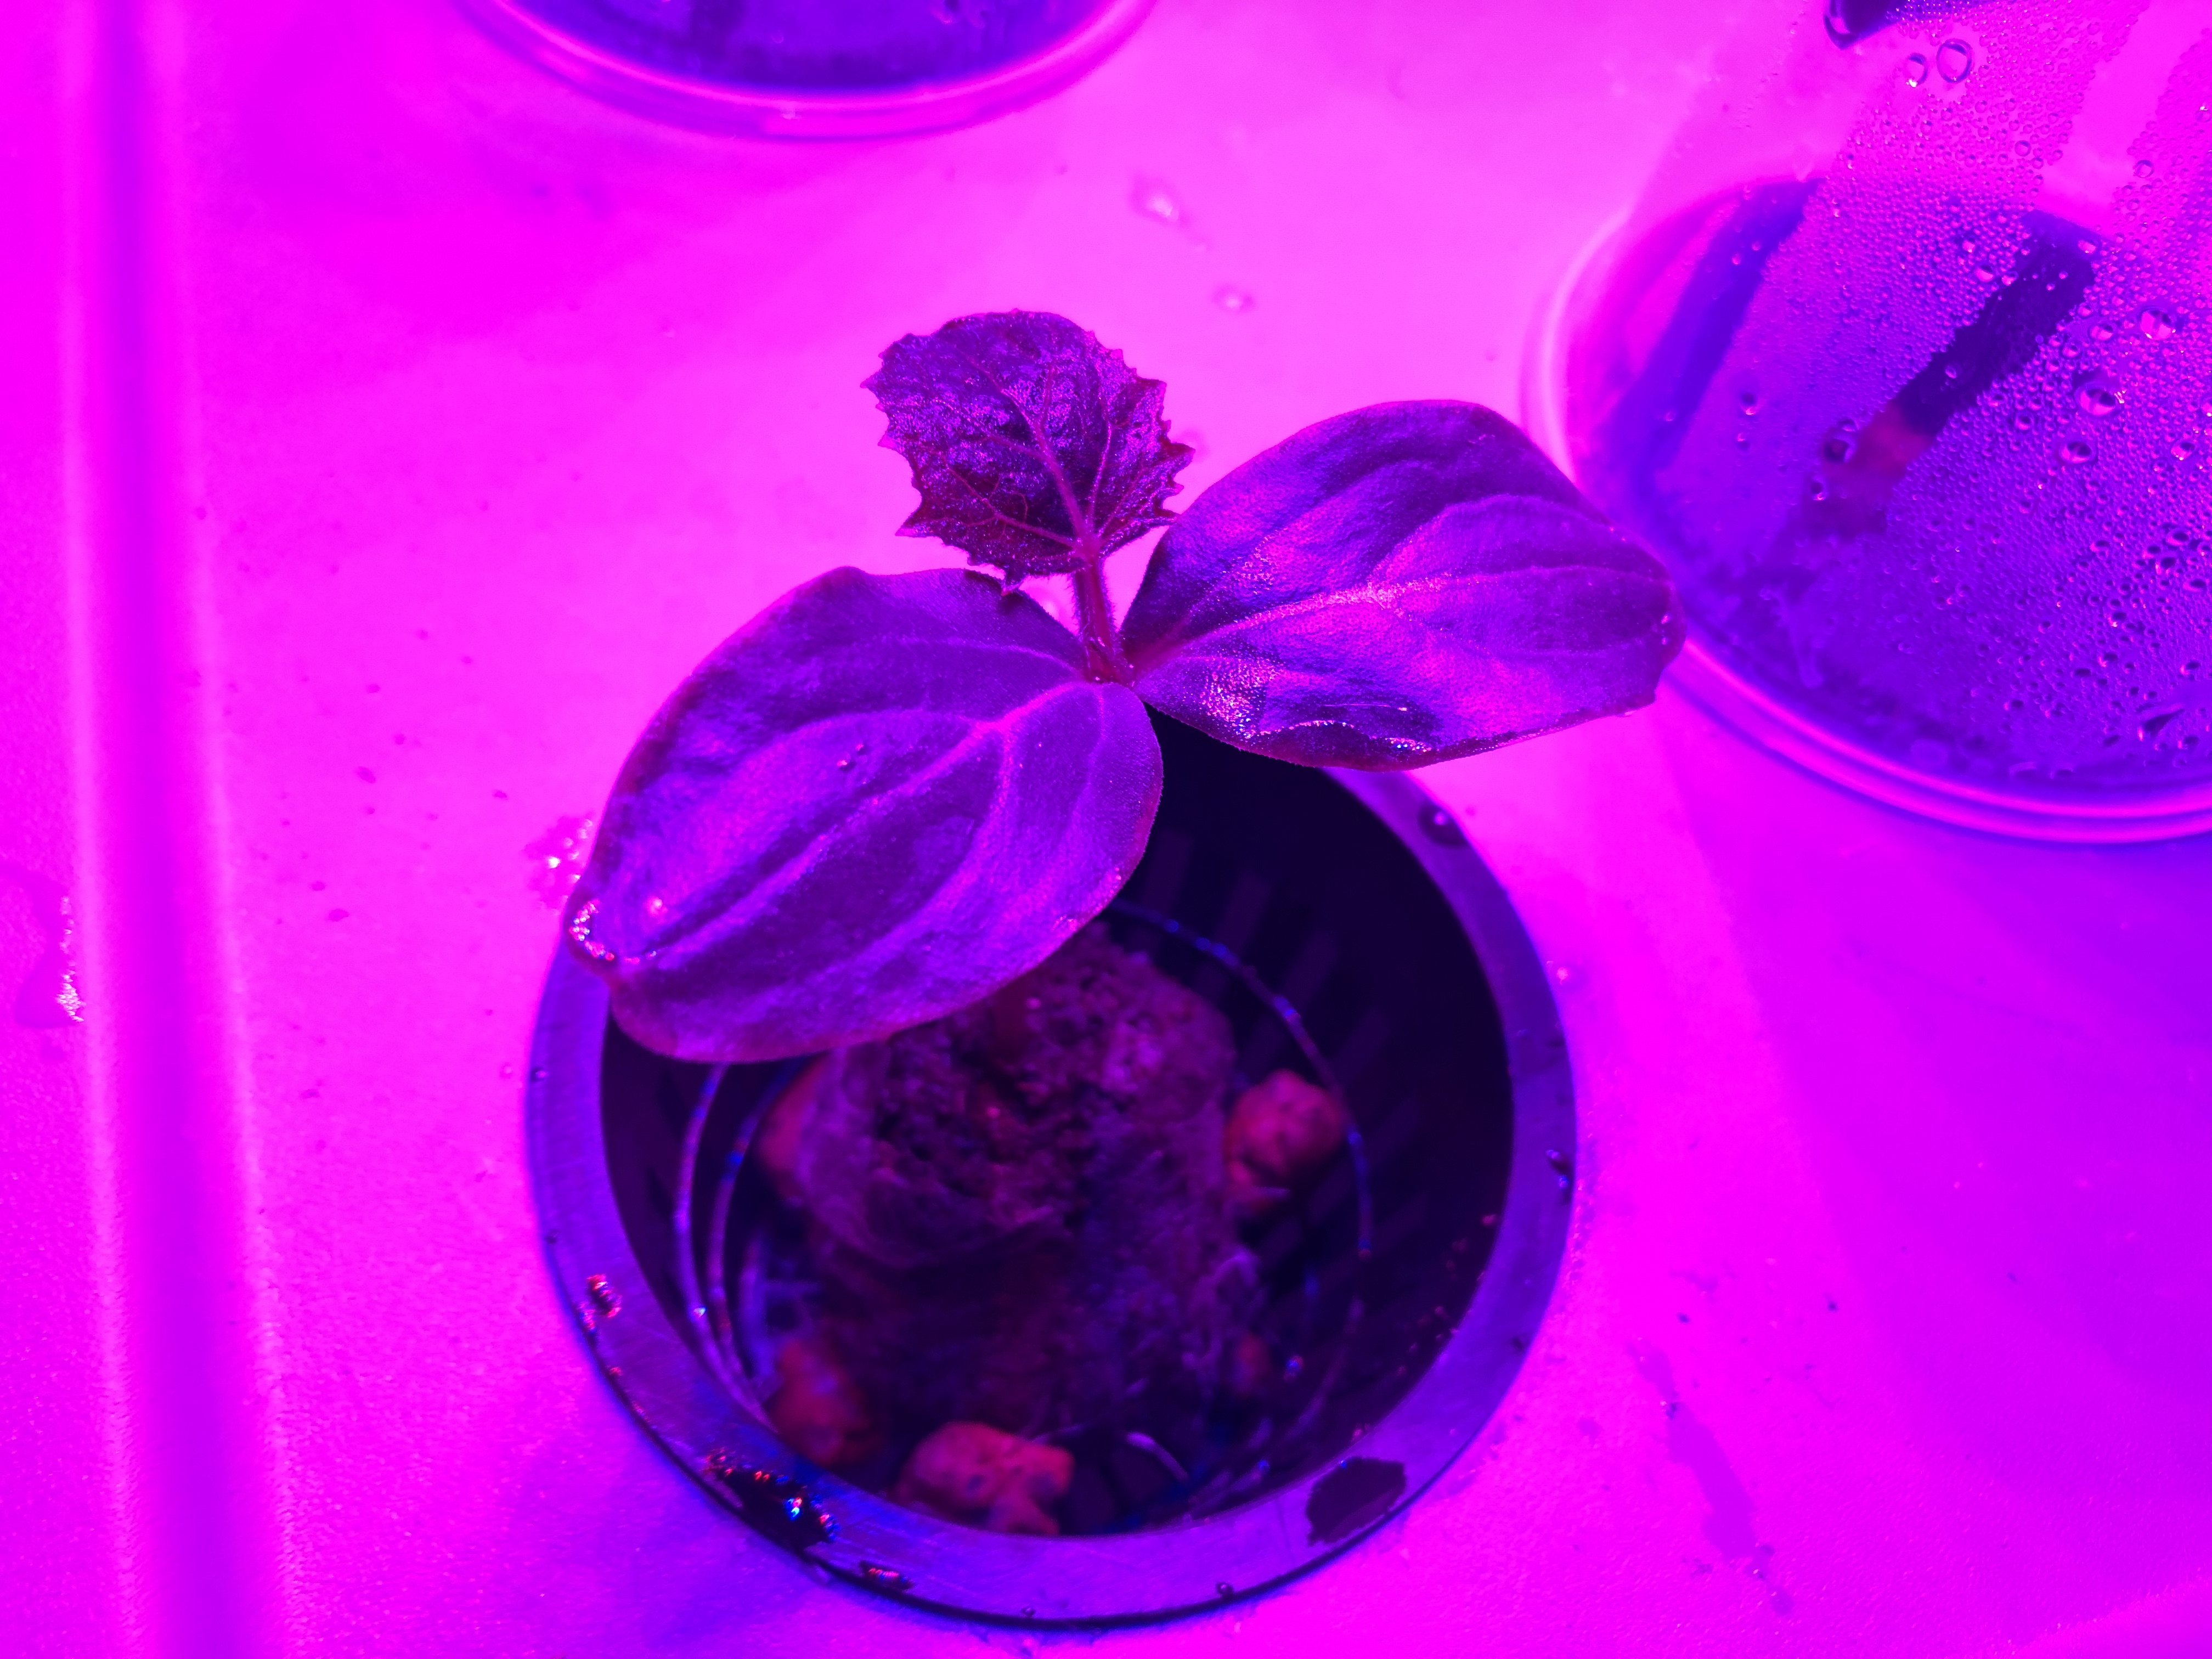cup: (479, 680, 1608, 1612), (1498, 101, 2212, 939)
lil_plant: (535, 265, 1613, 1066)
